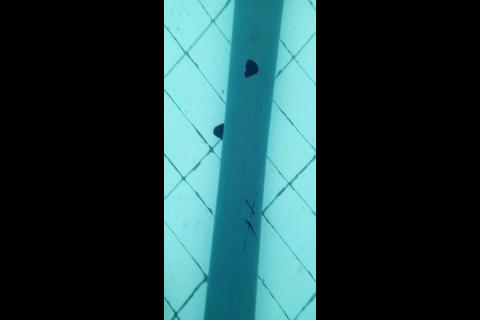kebocoran: (243, 57, 260, 79)
keretakan: (241, 192, 257, 253)
